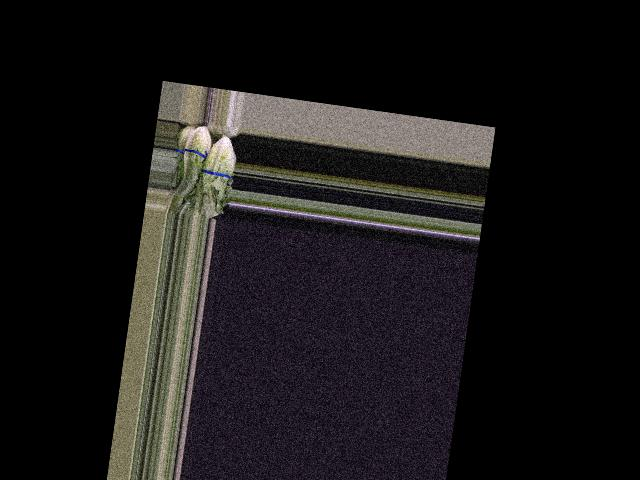lettuce: (171, 122, 213, 201)
